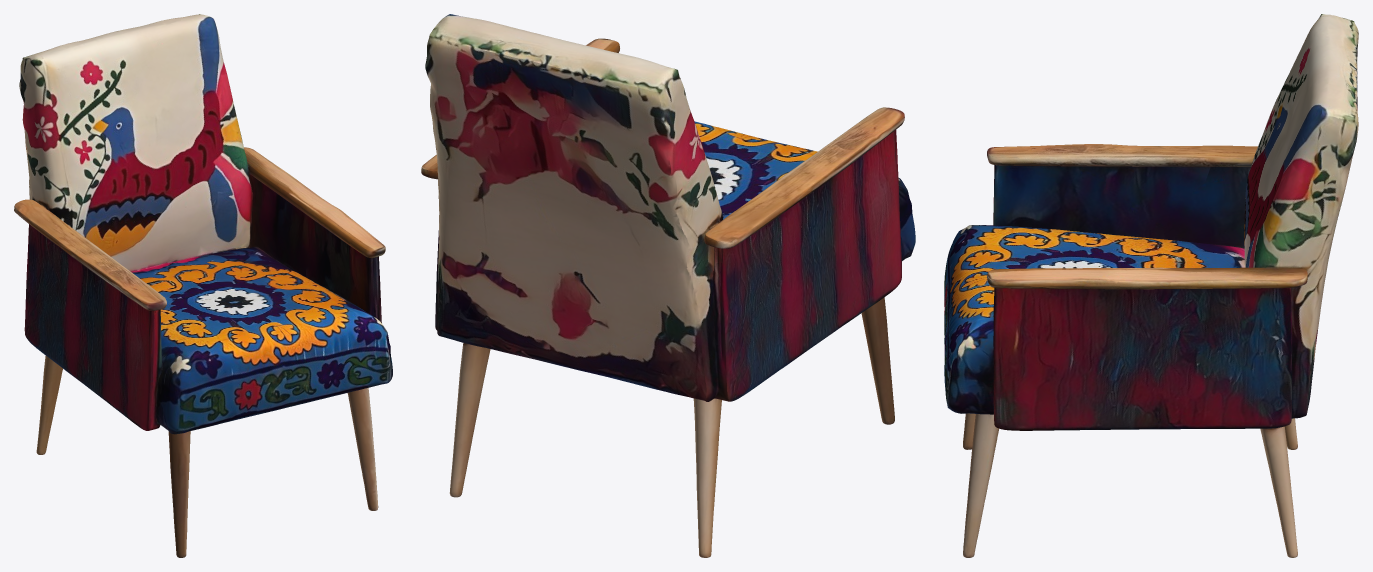
3 renders of one model, left to right at view 1: azimuth 30°, elevation 25°; view 2: azimuth 150°, elevation 25°; view 3: azimuth 270°, elevation 25°, orthographic. The views are drawn at different scales.
Parts seen in each view (by area): view 1: model; view 2: model; view 3: model.
Boxes of the visible parts, bbox=[...] form: model: bbox=[14, 14, 392, 557]; model: bbox=[421, 14, 915, 557]; model: bbox=[944, 14, 1358, 557].
Bounding box in the file's own units: 0.5781 × 0.87 × 0.7364.
1 material, 1 textured.
